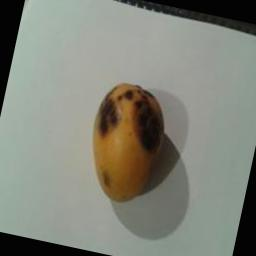Mango Rotten: (72, 68, 178, 210)
